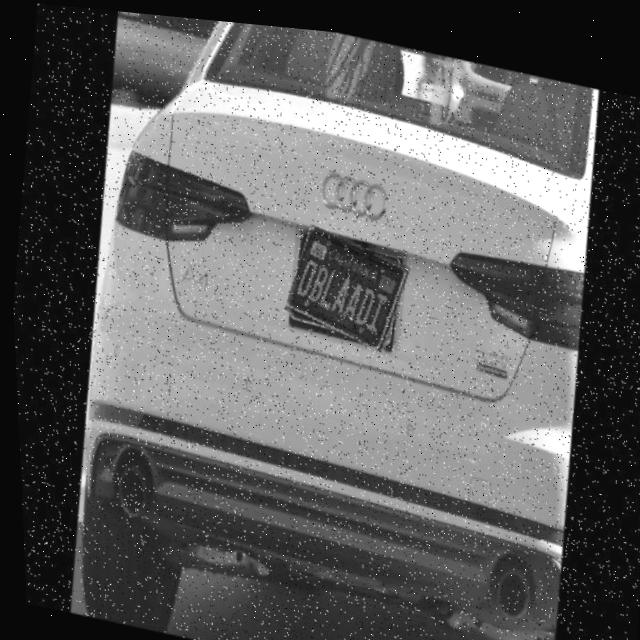LicensePlate: (281, 220, 409, 344)
